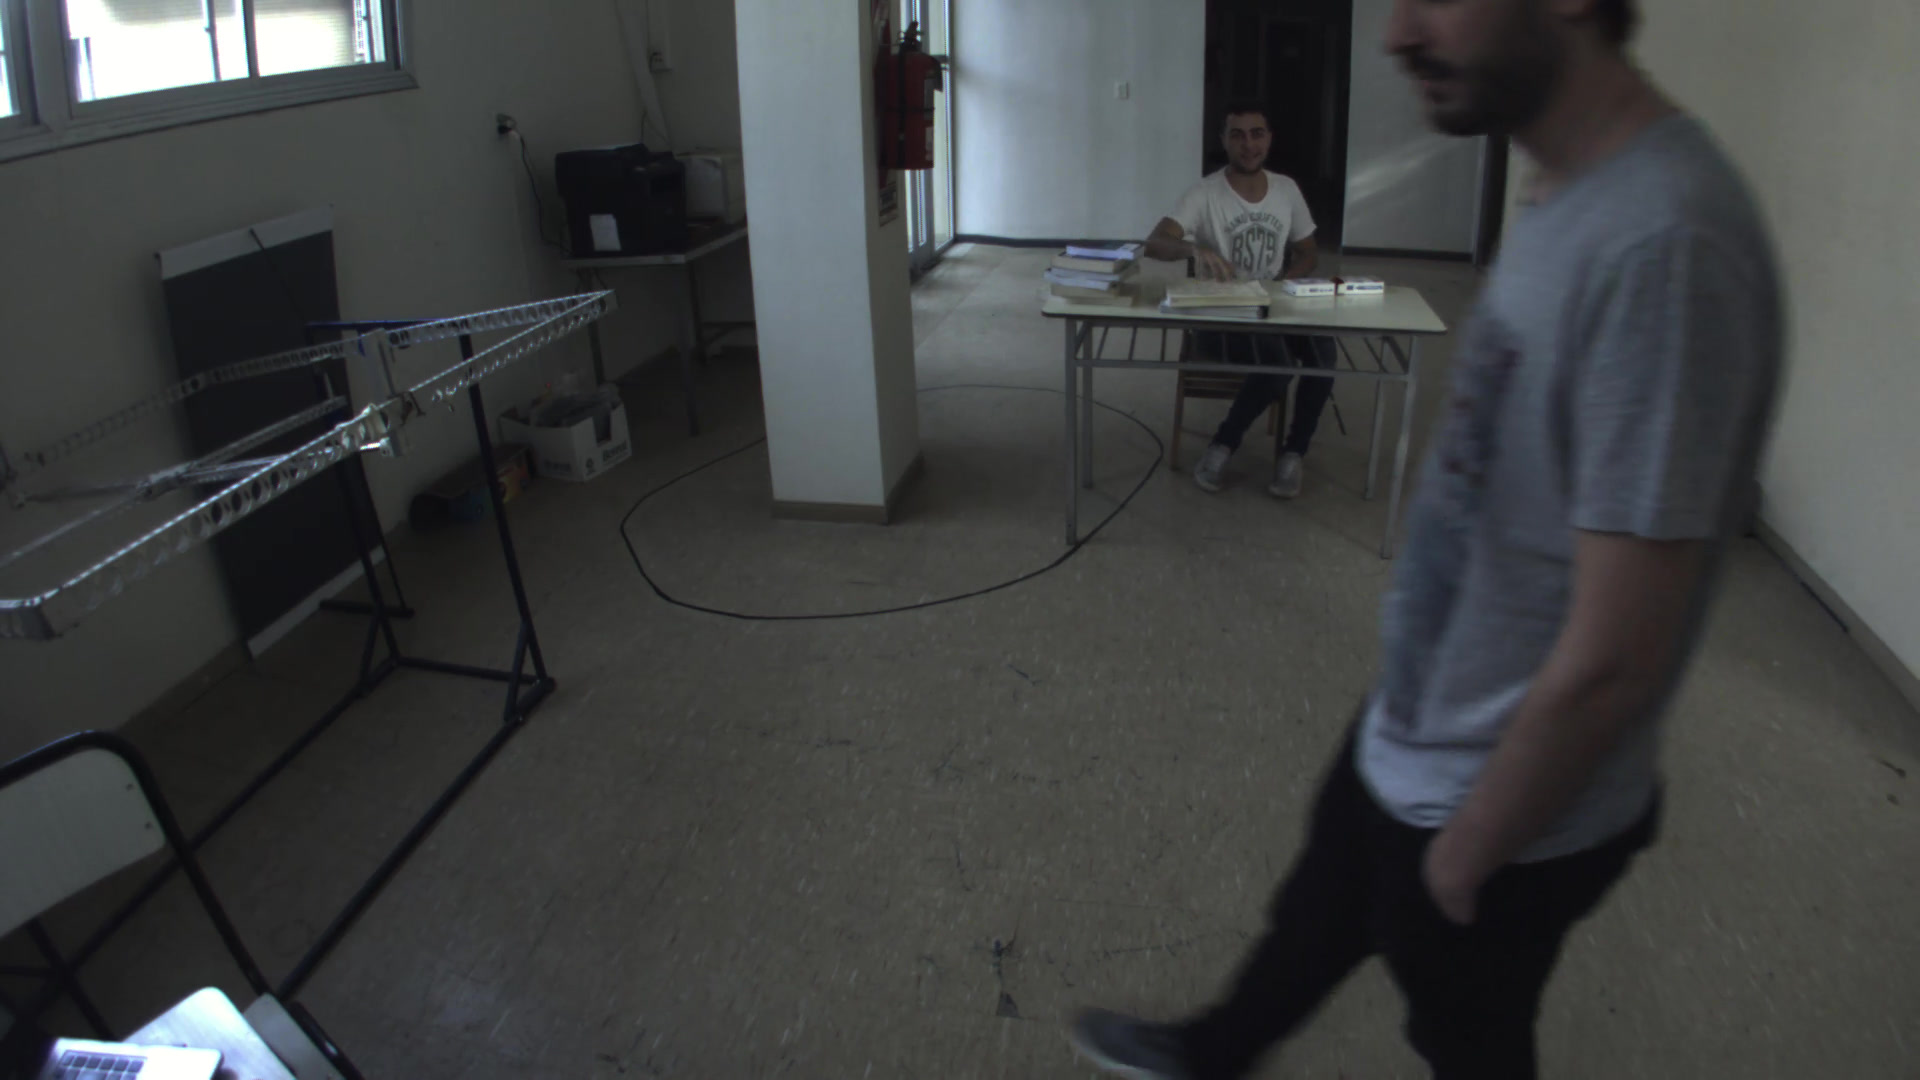hand: (1196, 243, 1255, 295)
